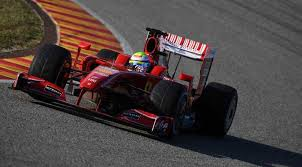FormulaOneCar: (11, 23, 239, 145)
